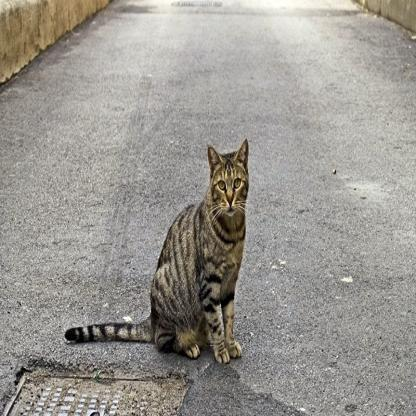cat: (151, 140, 249, 356)
